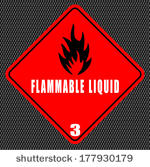FlammableLiquid: (10, 12, 143, 136)
